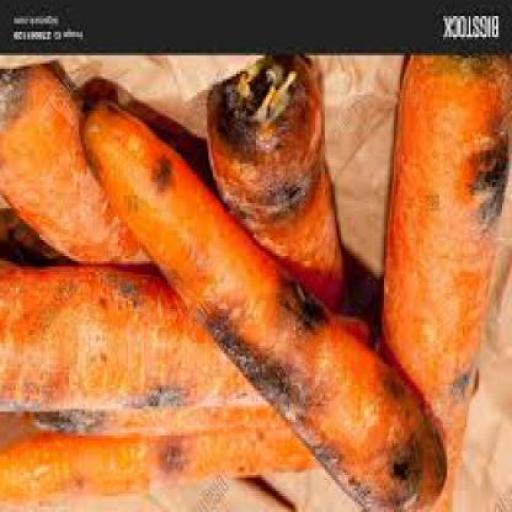biodegradable: (82, 102, 450, 511), (384, 60, 511, 511), (2, 264, 281, 417), (208, 58, 352, 316), (2, 68, 156, 275), (2, 422, 320, 510), (24, 390, 290, 438)
